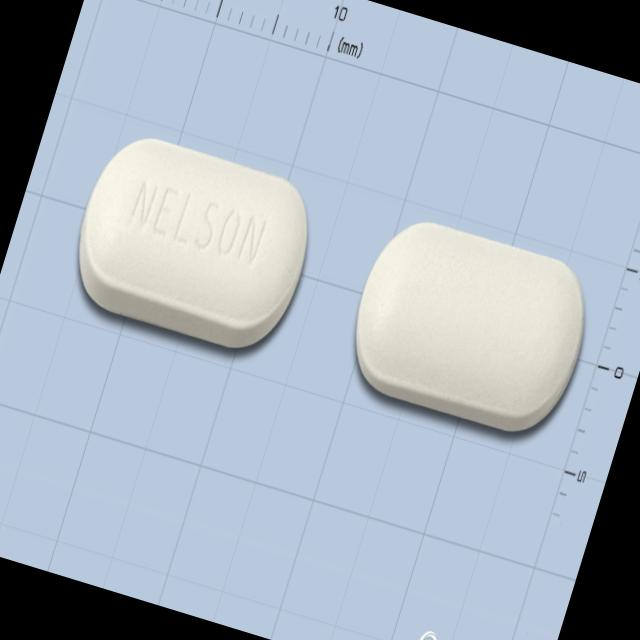Ciproctan: (55, 115, 336, 372)
